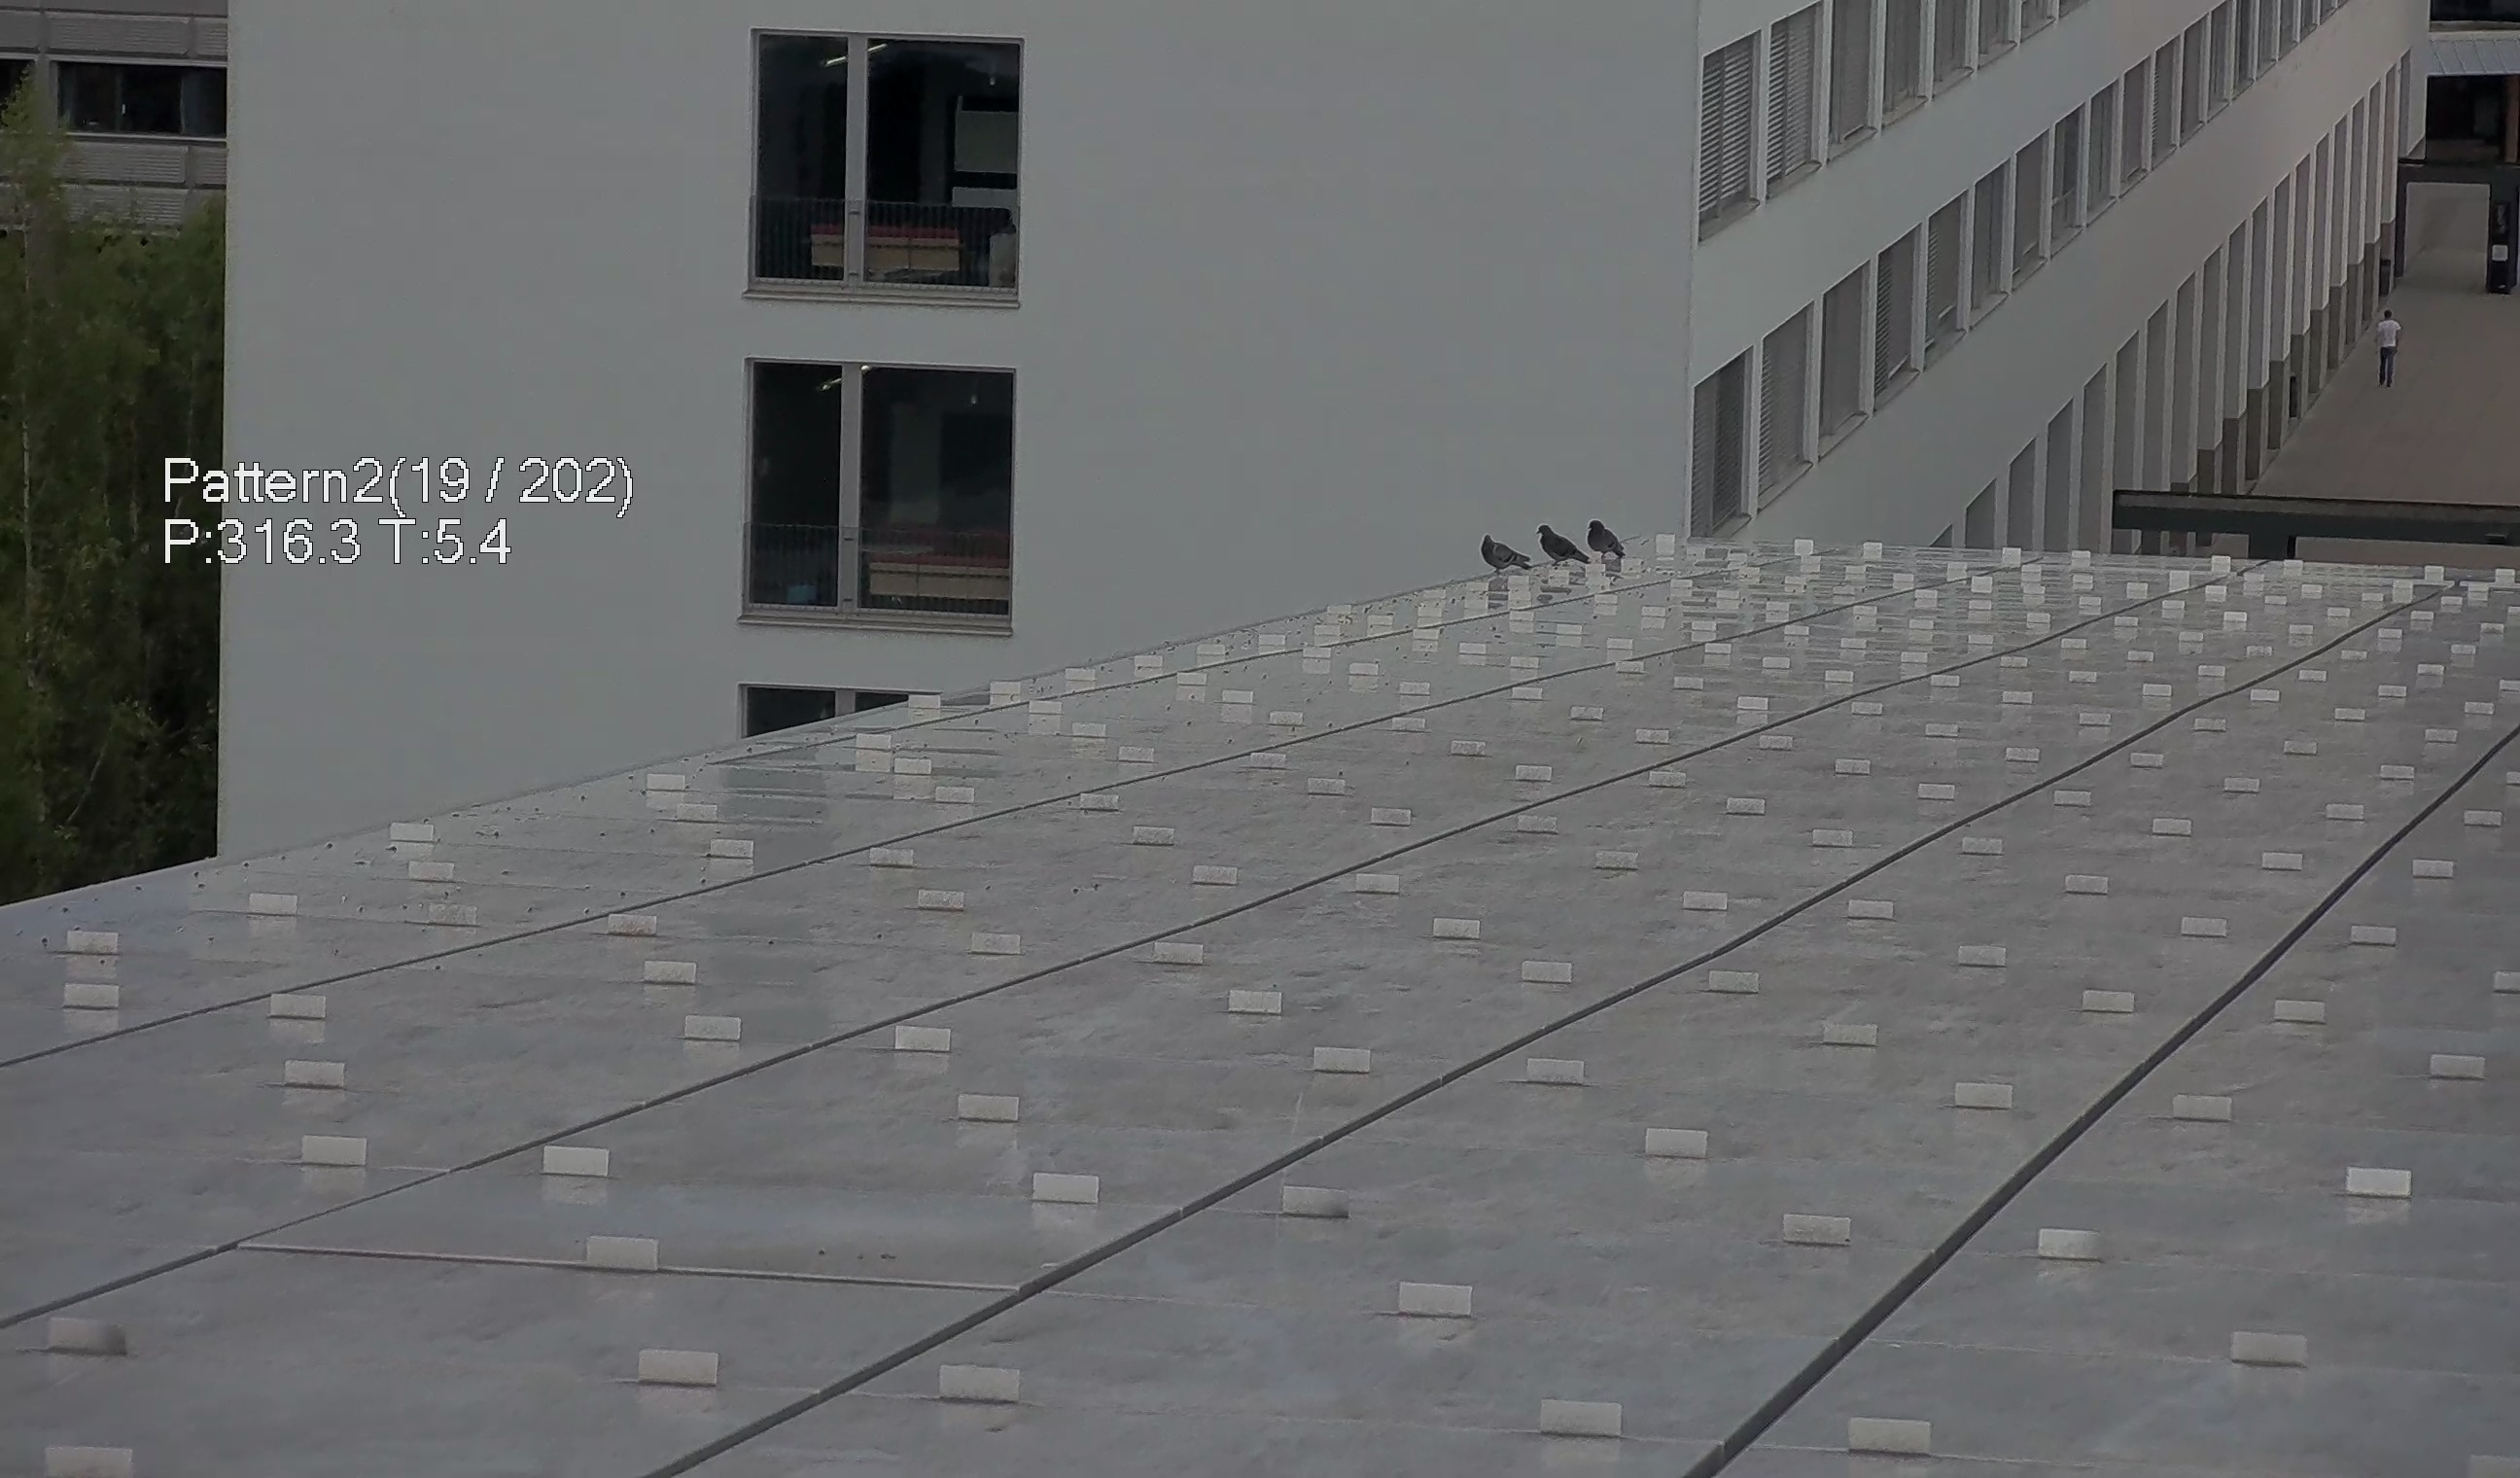Pigeon: (1532, 523, 1593, 575), (1468, 530, 1533, 574), (1576, 517, 1628, 560)
